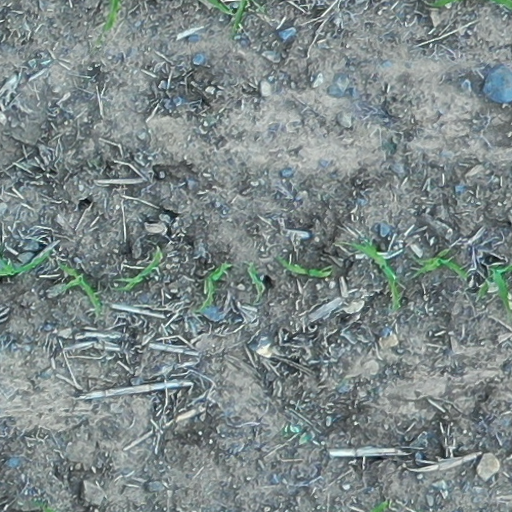planta: (343, 240, 400, 306), (59, 264, 100, 312), (114, 253, 163, 291), (199, 262, 231, 312), (414, 249, 468, 278), (278, 258, 329, 276)
